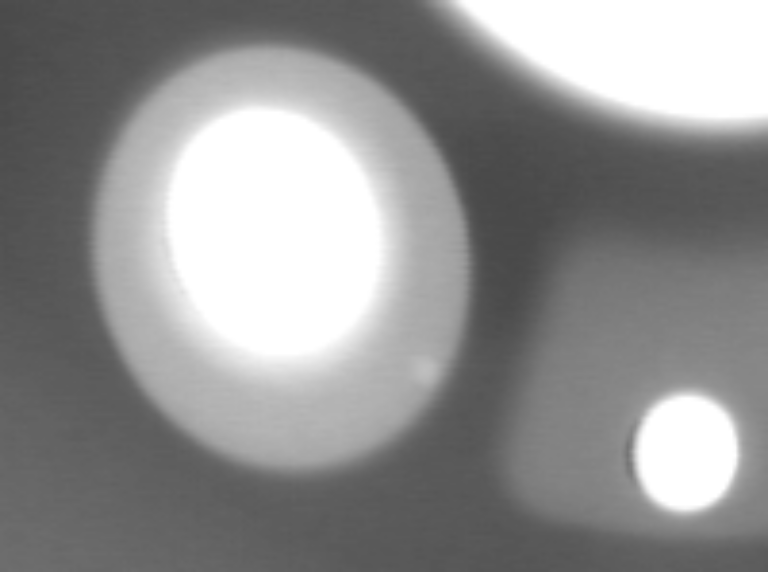defect: (411, 360, 445, 396)
